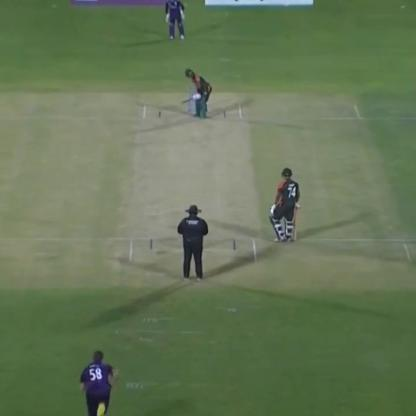pitch: (122, 102, 260, 274)
